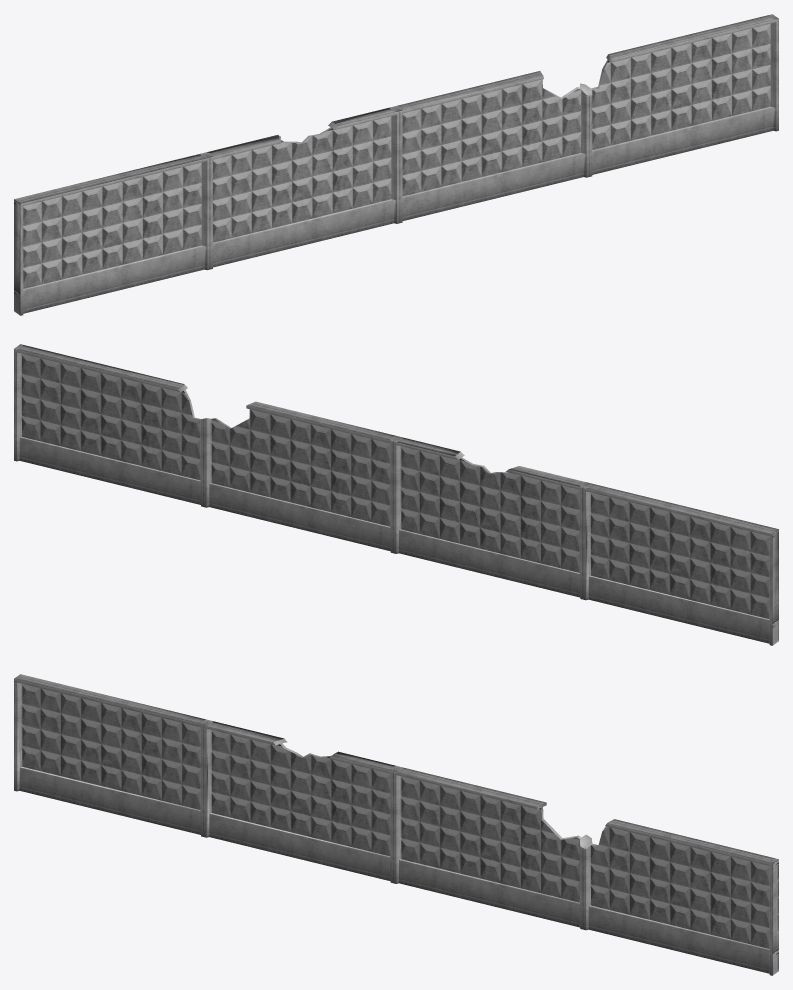
The model's file is FenceConcrete1_7.FBX.
3 renders of one model, top to bottom at view 1: azimuth 30°, elevation 25°; view 2: azimuth 150°, elevation 25°; view 3: azimuth 330°, elevation 25°, orthographic.
Parts seen in each view (by area): view 1: FenceConcrete1; view 2: FenceConcrete1; view 3: FenceConcrete1.
Part boxes in pixels (x1,y1,x2,y2): FenceConcrete1: (14,14,778,315); FenceConcrete1: (14,344,778,645); FenceConcrete1: (14,674,778,975).
Bounding box in the file's own units: 630 × 88.82 × 9.23.
